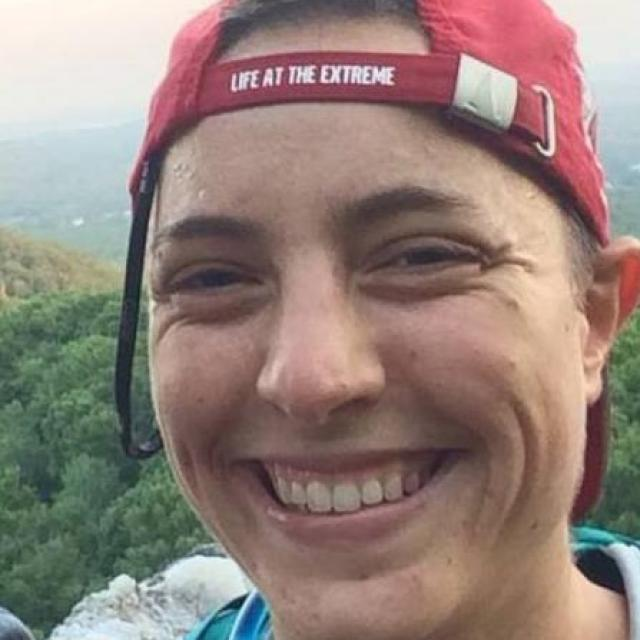Normal: (148, 107, 589, 635)
